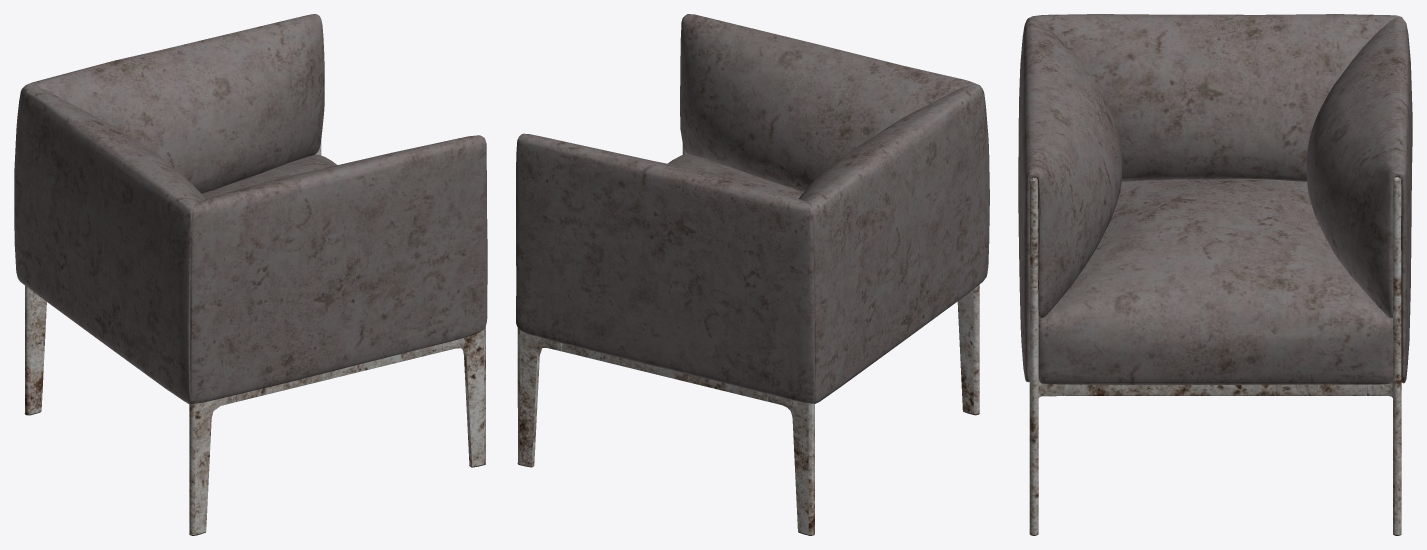
File: park_armchair.glb
The picture shows the model from 3 angles, left to right: view 1: azimuth 30°, elevation 25°; view 2: azimuth 150°, elevation 25°; view 3: azimuth 270°, elevation 25°; orthographic projection. The views are drawn at different scales.
Parts seen in each view (by area): view 1: park_armchair; view 2: park_armchair; view 3: park_armchair.
Part boxes in pixels (x1=…): park_armchair: x1=14, y1=14, x2=487, y2=535; park_armchair: x1=516, y1=14, x2=989, y2=535; park_armchair: x1=1018, y1=14, x2=1412, y2=535.
Size of the model in its own units: 0.7081 by 0.7268 by 0.7122.
3 materials, 3 textured.
